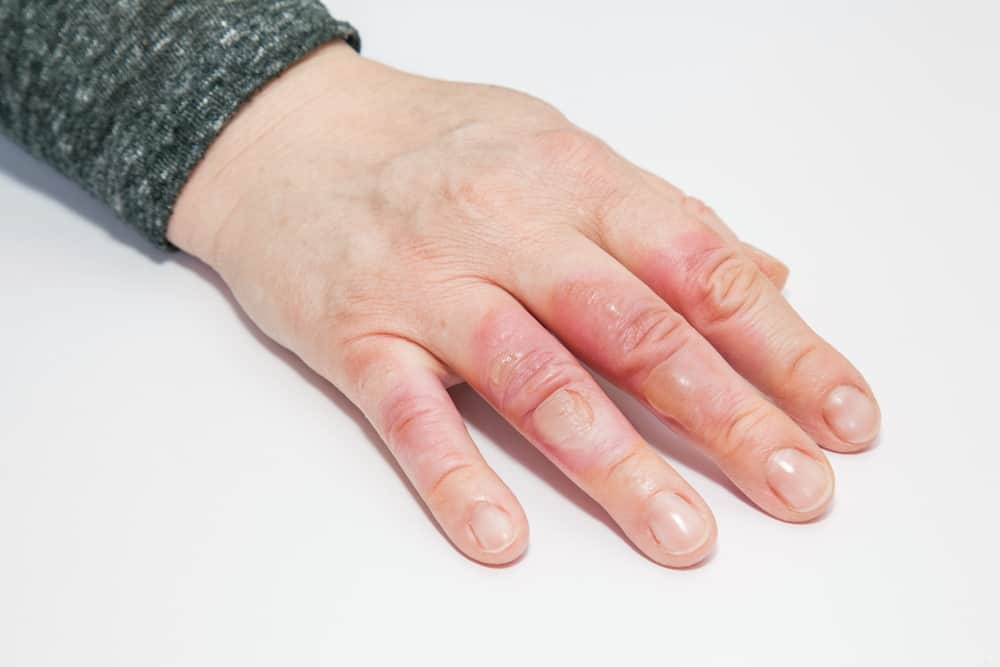Luka Bakar: (457, 299, 593, 443), (576, 262, 700, 392), (674, 223, 778, 335)
